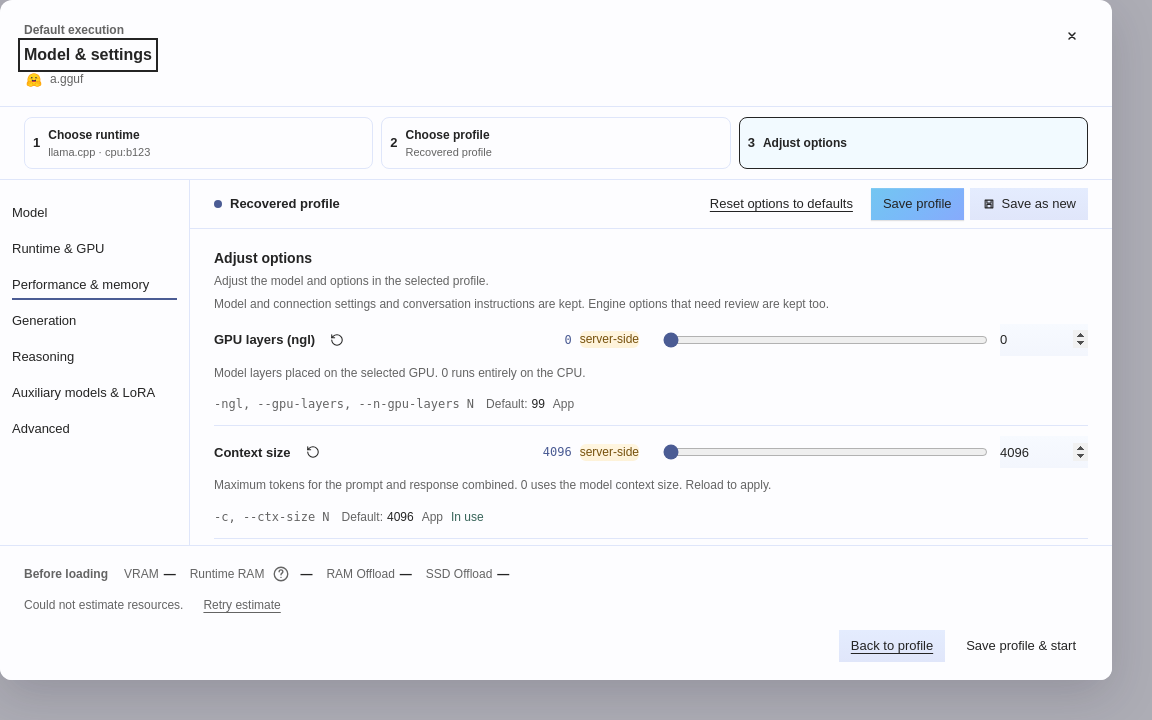
Test: context size bounds › still refuses an entry that is garbage rather than large and names the field in plain language
The width and height of the screenshot is (1152, 720).
Replace the text in the number field labelled "Context size" with "99999999" at [1044, 452], box [1000,436,1088,468]
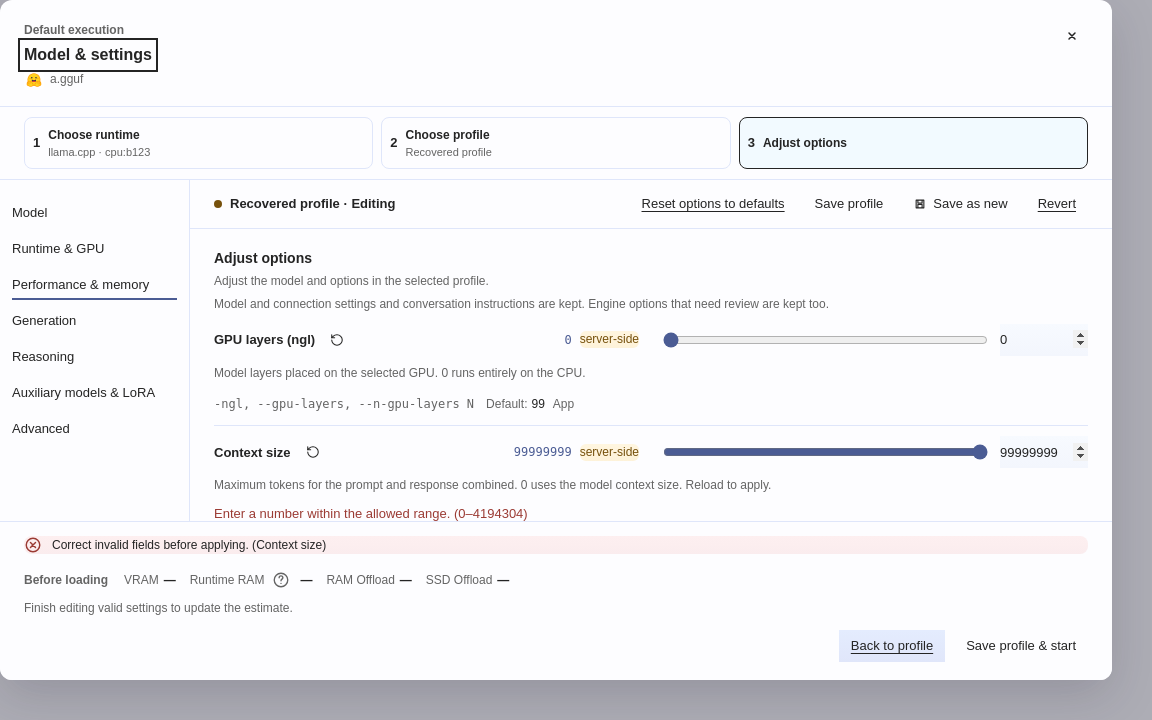
expect the text "Correct invalid fields before applying. (Context size)" is shown: met, box [52,538,326,552]
